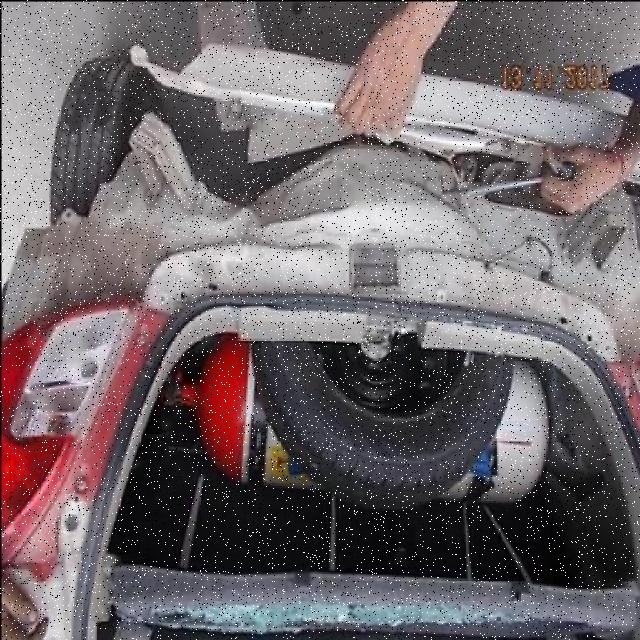damage: (2, 47, 640, 364)
